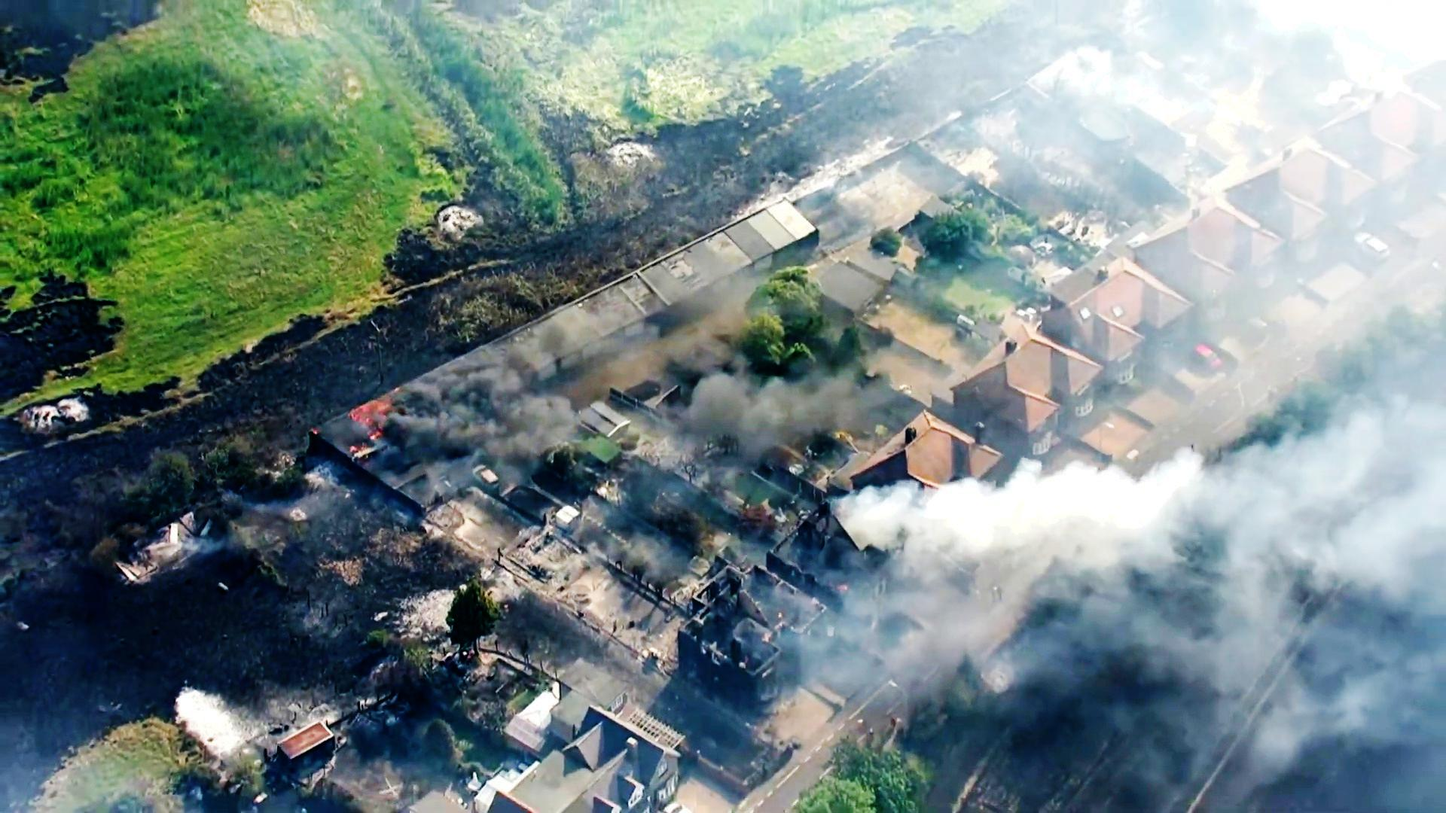smoke: (885, 471, 1446, 553)
